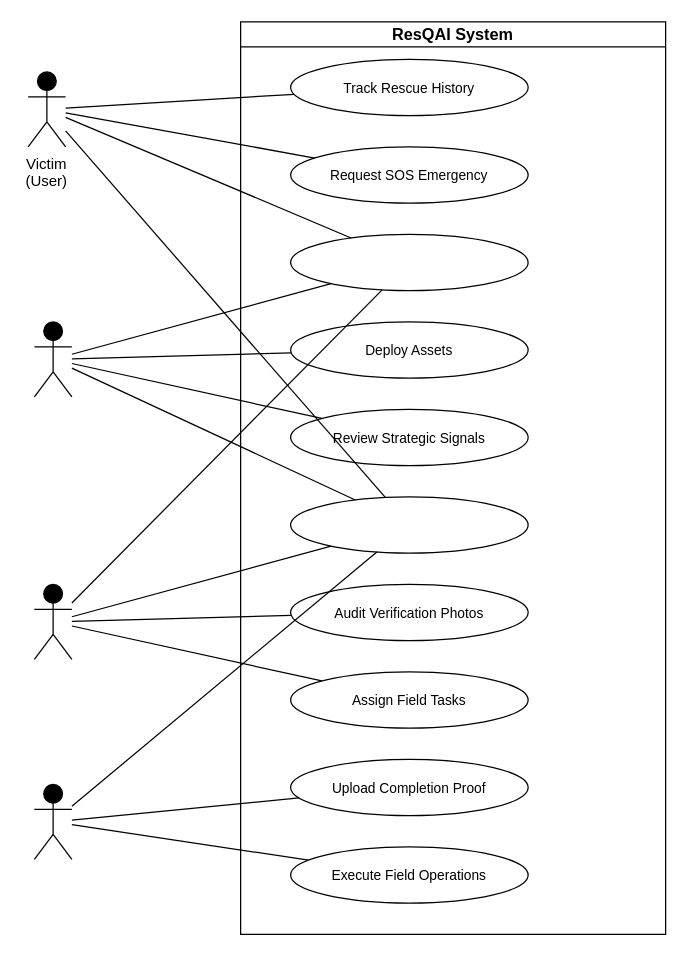
This 688x956 diagram has some shape labels left out. Each missing label, with the centre of its shape:
Admin: the point at 52,621
NGO: the point at 52,359
Register & Login: the point at 408,524
View AI Predictions & Map: the point at 408,262
Volunteer: the point at 52,821
